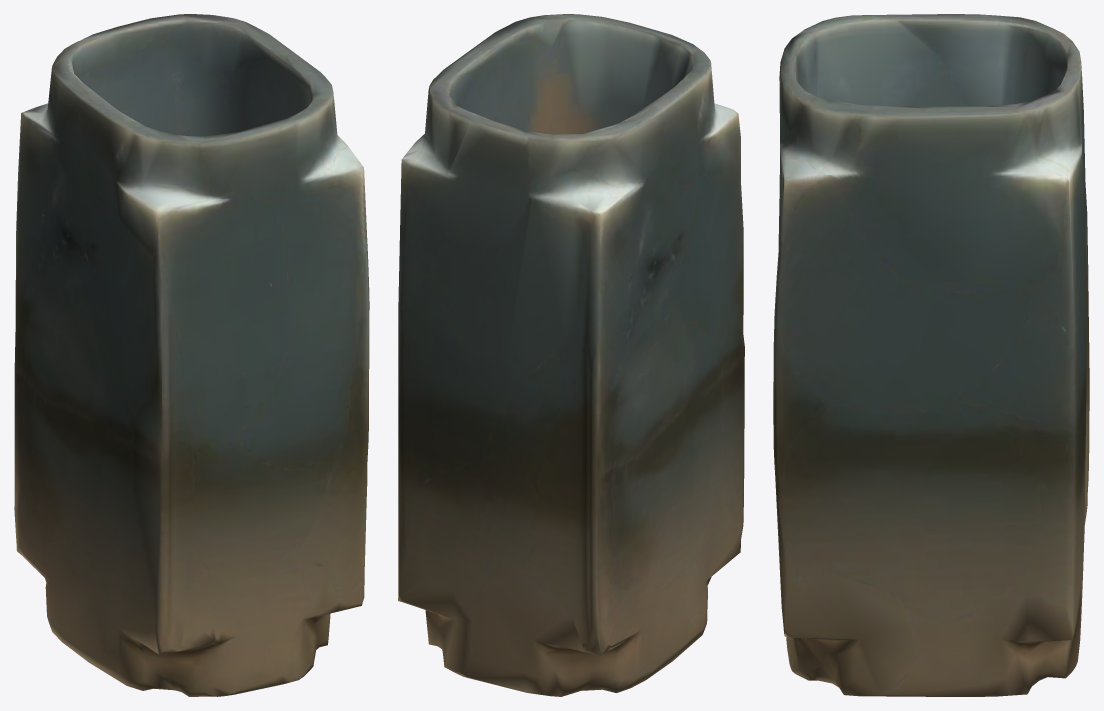
The model's file is qijia-plain-overview.glb.
3 views of the same model, side by side, from view 1: azimuth 30°, elevation 25°; view 2: azimuth 150°, elevation 25°; view 3: azimuth 270°, elevation 25° (orthographic). The views are drawn at different scales.
Visible parts, largest first — view 1: node_0; view 2: node_0; view 3: node_0.
Part boxes in pixels (x1,y1,x2,y2): node_0: (14, 14, 369, 696); node_0: (398, 14, 744, 696); node_0: (773, 14, 1089, 696).
Size of the model in its own units: 0.4328 by 1.08 by 0.5276.
1 material, 1 textured.
